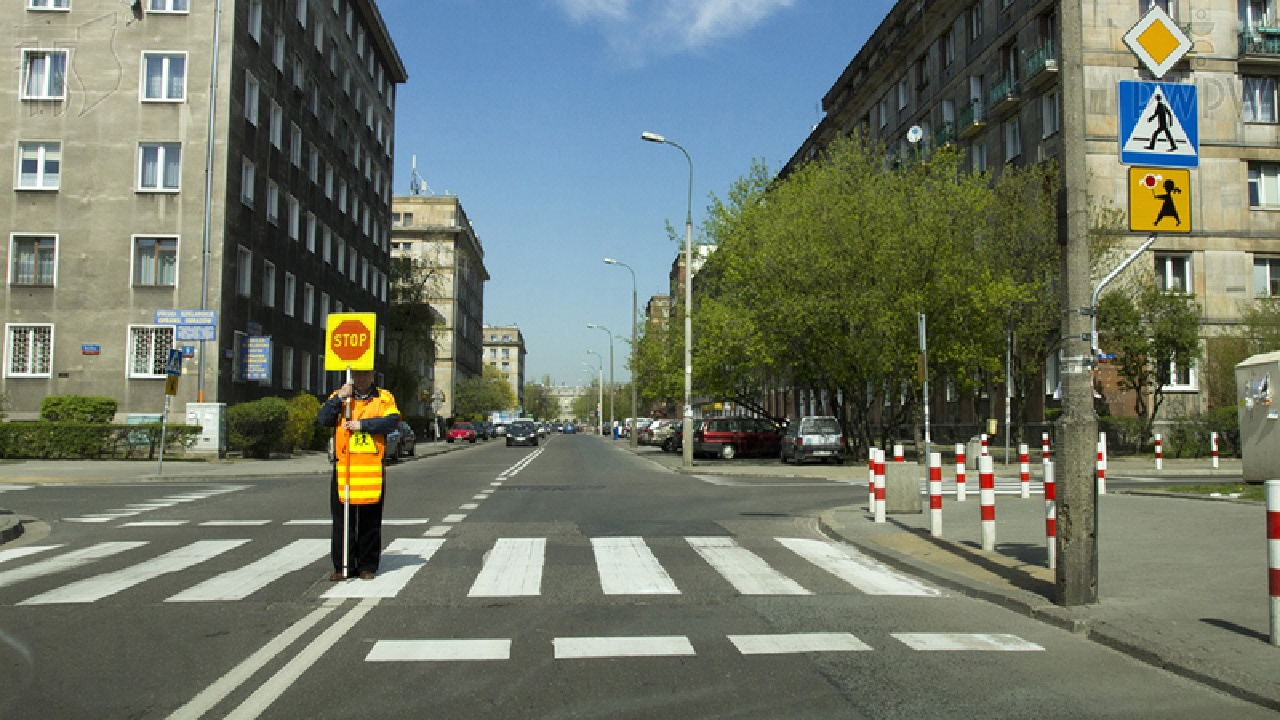B20: (330, 319, 371, 361)
D1: (1123, 5, 1195, 78)
D6: (1116, 80, 1200, 169)
